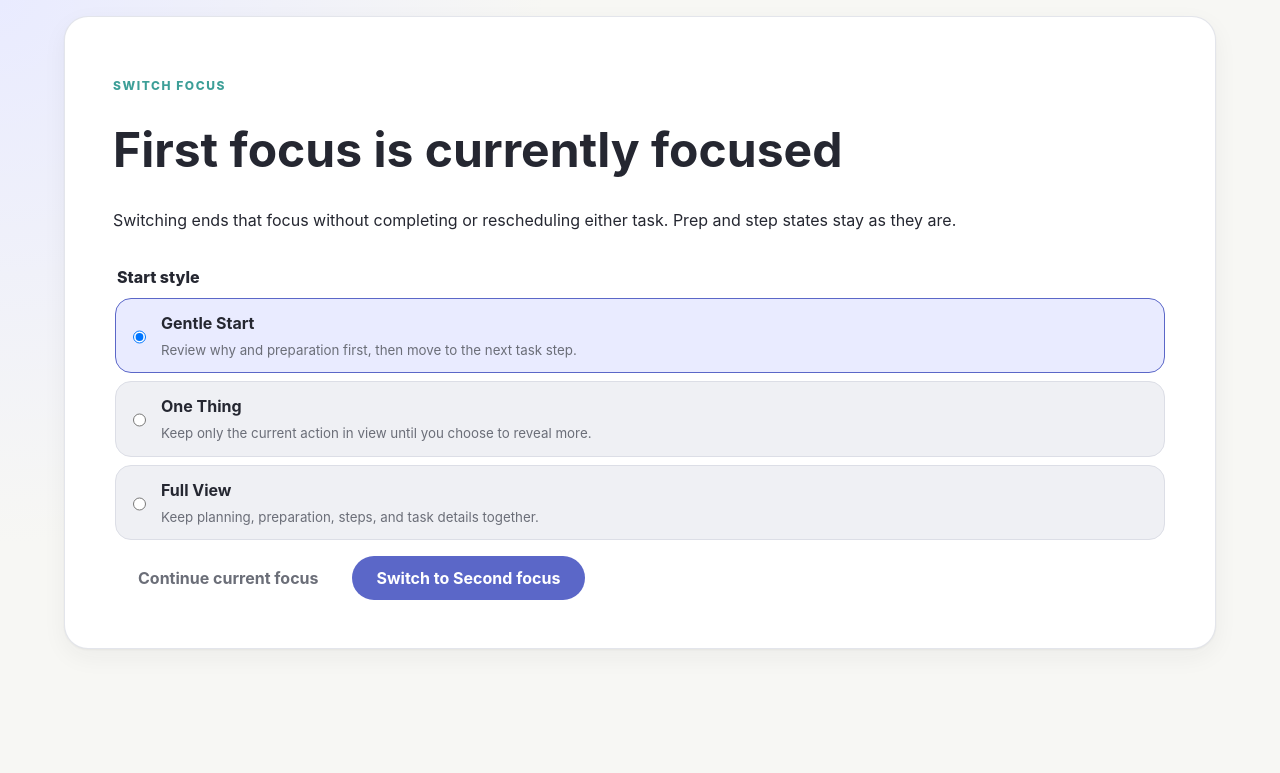
Test: Phase 4B focused start › requires confirmation before switching the single active focus
Check: the heading "First focus is currently focused" is shown, box x1=113 y1=120 x2=842 y2=179
What coordinates should you click on to do the following:
click the button "Switch to Second focus"
I would click on:
 (468, 578)
Its box is x1=352 y1=556 x2=585 y2=600.
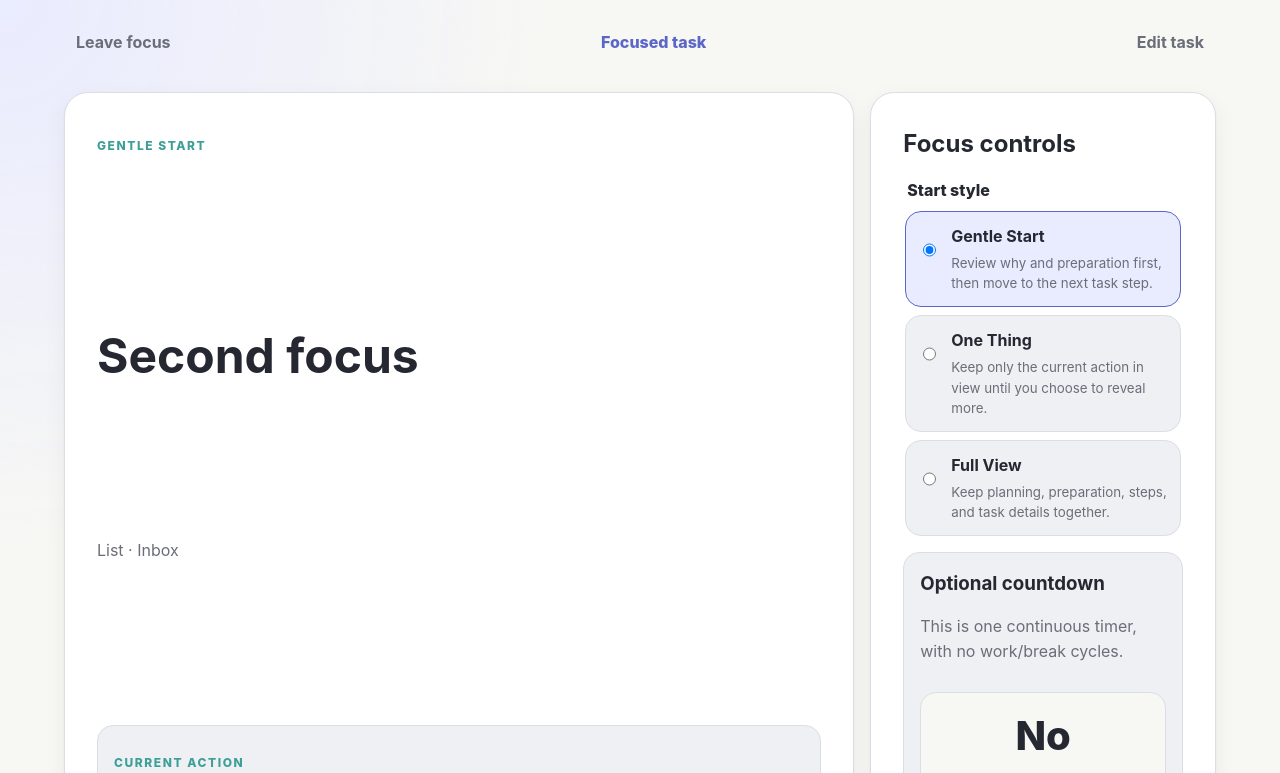
Check: the heading "Second focus" is shown, box x1=97 y1=326 x2=419 y2=385
